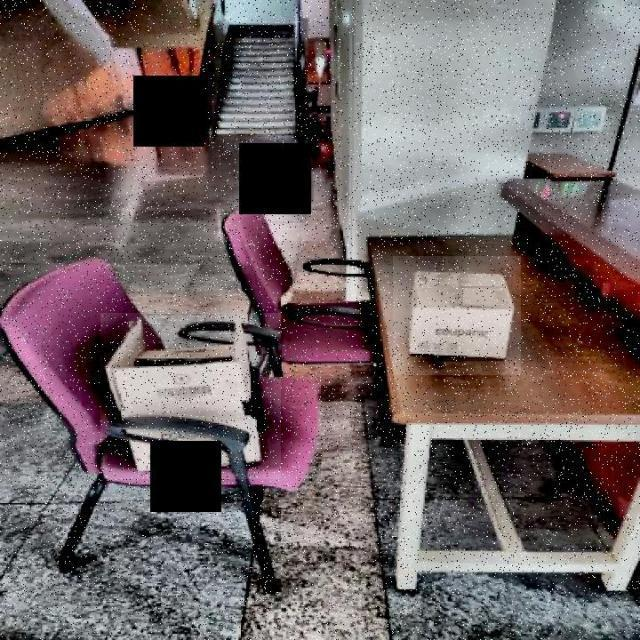box: (100, 313, 281, 479), (393, 256, 521, 375)
